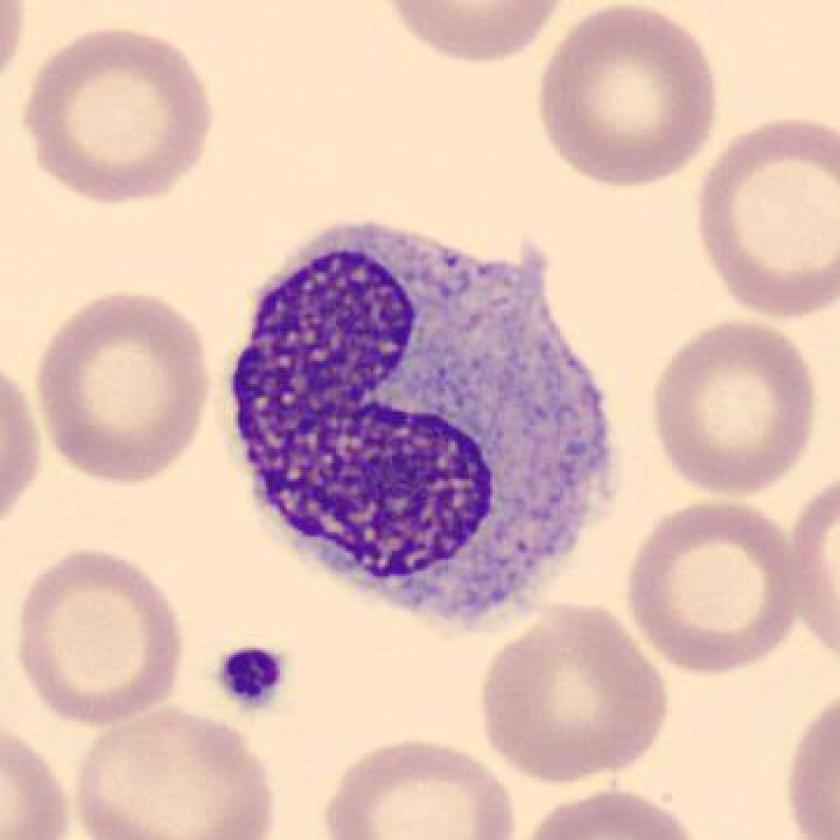monocyte: (209, 200, 640, 654)
